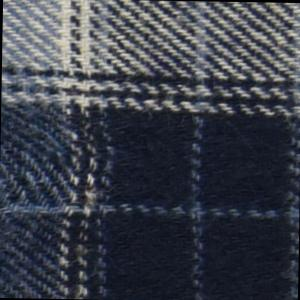Wrinkle: (1, 55, 122, 265)
